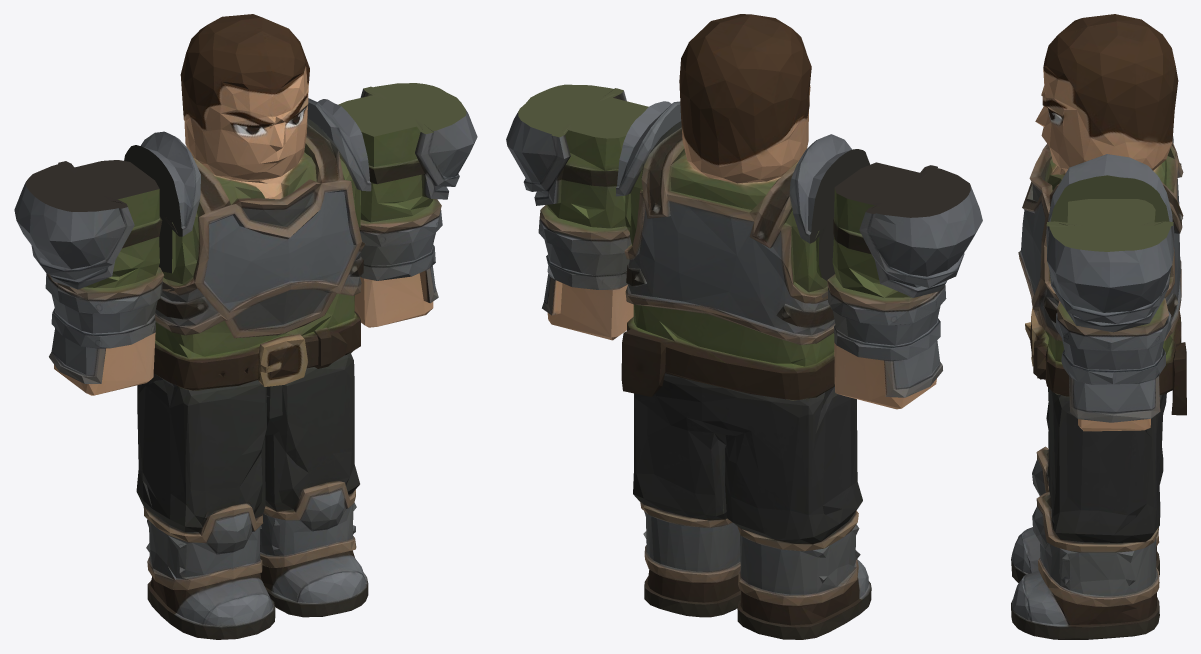
File: Goro_R6_Auto_v3.fbx
3 views of the same model, side by side, from view 1: azimuth 30°, elevation 25°; view 2: azimuth 150°, elevation 25°; view 3: azimuth 270°, elevation 25° (orthographic). The views are drawn at different scales.
Parts seen in each view (by area): view 1: Torso, RightLeg, RightArm, LeftArm, LeftLeg, Head; view 2: Torso, RightLeg, RightArm, LeftArm, LeftLeg, Head; view 3: LeftLeg, LeftArm, Head, Torso, RightLeg.
Part boxes in pixels (<box>): Torso: <box>124,98,371,411</box>; RightLeg: <box>136,383,276,639</box>; RightArm: <box>14,160,163,395</box>; LeftArm: <box>338,83,477,327</box>; LeftLeg: <box>260,370,368,617</box>; Head: <box>180,14,327,179</box>; Torso: <box>615,101,869,420</box>; RightLeg: <box>716,397,871,639</box>; RightArm: <box>827,162,982,409</box>; LeftArm: <box>506,84,648,340</box>; LeftLeg: <box>633,387,740,617</box>; Head: <box>658,14,811,184</box>; LeftLeg: <box>1011,387,1166,639</box>; LeftArm: <box>1046,199,1174,431</box>; Head: <box>1035,14,1178,169</box>; Torso: <box>1018,136,1186,418</box>; RightLeg: <box>1011,402,1163,583</box>.
Bounding box in the file's own units: 4.48 × 5.52 × 1.53.
Materials: 1 (1 with a texture image).
